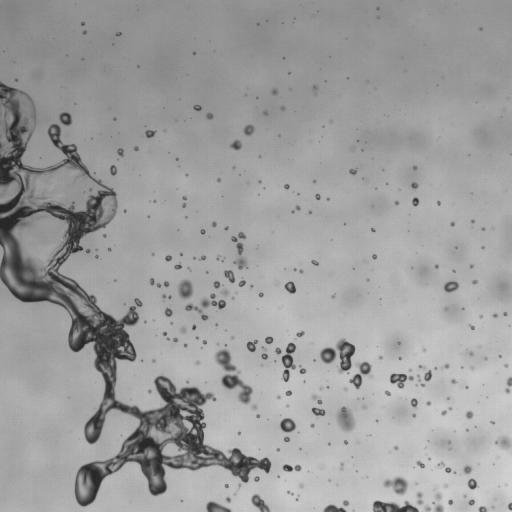droplet: (320, 338, 355, 373), (185, 293, 225, 320), (349, 361, 372, 388), (423, 486, 443, 511), (336, 406, 355, 432), (383, 476, 408, 495), (389, 373, 413, 388), (177, 279, 193, 299), (494, 435, 511, 451), (279, 418, 295, 432), (443, 281, 458, 292), (59, 112, 71, 125), (284, 281, 295, 293), (224, 270, 234, 283), (311, 407, 325, 416), (243, 124, 254, 135), (246, 340, 257, 351), (467, 478, 478, 489), (230, 140, 241, 150), (311, 394, 321, 404), (145, 130, 155, 138), (424, 370, 431, 381), (164, 307, 172, 316), (298, 365, 306, 373), (463, 465, 471, 473), (410, 398, 417, 407), (416, 461, 425, 468), (110, 165, 116, 175), (213, 281, 221, 288), (265, 336, 273, 343), (466, 411, 473, 419), (412, 197, 418, 206), (478, 506, 488, 511), (411, 182, 418, 189), (221, 289, 228, 296), (117, 148, 123, 156), (296, 331, 304, 337), (271, 88, 277, 95), (206, 113, 213, 119), (174, 263, 181, 269), (239, 279, 245, 286), (193, 105, 201, 110), (441, 363, 449, 368), (165, 255, 171, 261), (149, 278, 155, 284), (180, 327, 186, 333), (275, 348, 281, 354), (468, 499, 474, 505), (312, 85, 317, 92), (349, 169, 356, 174), (418, 365, 425, 370), (312, 260, 318, 265), (285, 390, 291, 395), (284, 184, 289, 189), (315, 194, 320, 199), (200, 229, 205, 234), (200, 255, 205, 260), (372, 254, 377, 259), (164, 281, 169, 286), (469, 324, 474, 329), (385, 390, 390, 395), (251, 404, 256, 409), (441, 410, 446, 415), (284, 436, 289, 441), (254, 476, 259, 481), (182, 202, 186, 207), (295, 206, 300, 210), (212, 221, 216, 226), (472, 280, 477, 284), (259, 292, 263, 297), (451, 379, 456, 383), (226, 497, 230, 502), (448, 499, 452, 504), (340, 463, 343, 469), (116, 32, 120, 36), (134, 146, 138, 150), (182, 196, 186, 200), (450, 222, 454, 226), (86, 249, 90, 253), (299, 269, 303, 273), (493, 313, 497, 317), (503, 312, 507, 316), (173, 338, 177, 342), (202, 340, 206, 344), (426, 401, 430, 405), (310, 423, 314, 427), (394, 446, 398, 450), (299, 484, 303, 488), (287, 491, 292, 494), (281, 106, 284, 110), (264, 111, 267, 115), (156, 284, 160, 287), (332, 294, 335, 298), (192, 325, 195, 329), (422, 347, 425, 351), (448, 407, 452, 410), (238, 484, 241, 488), (413, 166, 416, 169), (395, 201, 398, 204), (437, 201, 440, 204), (225, 227, 228, 230), (371, 228, 374, 231), (217, 256, 220, 259), (470, 264, 473, 267), (479, 315, 482, 318), (163, 332, 166, 335), (469, 352, 472, 355), (196, 361, 199, 364), (344, 387, 347, 390), (148, 390, 151, 393), (277, 396, 280, 399), (344, 441, 347, 444), (83, 31, 86, 33), (217, 179, 220, 181), (326, 198, 329, 200), (308, 211, 311, 213), (471, 220, 474, 222), (482, 227, 484, 230), (103, 234, 105, 237), (95, 255, 98, 257), (435, 265, 438, 267), (231, 336, 233, 339), (505, 364, 507, 367), (434, 367, 437, 369), (186, 380, 188, 383), (465, 386, 468, 388), (256, 415, 259, 417), (412, 414, 415, 416), (225, 484, 227, 487), (82, 23, 84, 25), (124, 210, 126, 212), (60, 225, 62, 227), (481, 246, 483, 248), (184, 344, 186, 346), (499, 355, 501, 357), (485, 357, 487, 359), (471, 367, 473, 369), (447, 397, 449, 399), (491, 421, 493, 423), (238, 432, 240, 434), (444, 485, 446, 487)
ligament: (0, 81, 268, 502), (214, 346, 252, 404), (231, 232, 247, 269), (281, 342, 296, 381), (372, 500, 420, 511), (251, 494, 270, 511), (323, 500, 349, 511), (206, 501, 231, 511), (436, 461, 451, 472), (282, 464, 301, 471), (505, 377, 511, 393), (417, 375, 424, 387), (416, 492, 423, 504), (261, 347, 267, 359), (162, 294, 171, 299), (508, 502, 511, 511)
